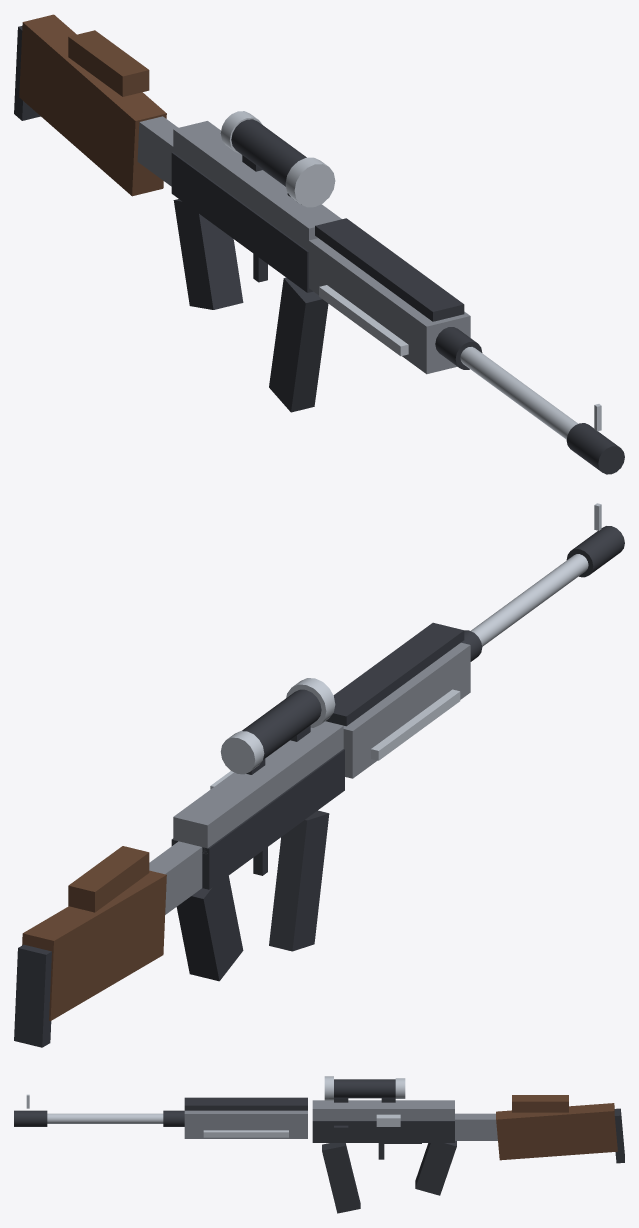
File: rifle.glb
3 renders of one model, top to bottom at view 1: azimuth 30°, elevation 25°; view 2: azimuth 150°, elevation 25°; view 3: azimuth 270°, elevation 25°, orthographic. The views are drawn at different scales.
Parts seen in each view (by area): view 1: box (×11), cyl (×5); view 2: box (×11), cyl (×5); view 3: box (×12), cyl (×6).
Boxes of the visible parts, box(x1,y1,x2,y2) form: box (×11): box(14, 14, 470, 412); cyl (×5): box(231, 119, 624, 474); box (×11): box(14, 622, 470, 1047); cyl (×5): box(220, 526, 624, 774); box (×12): box(184, 1095, 624, 1213); cyl (×6): box(14, 1076, 405, 1126).
Bounding box in the file's own units: 0.079 × 0.3096 × 1.29.
